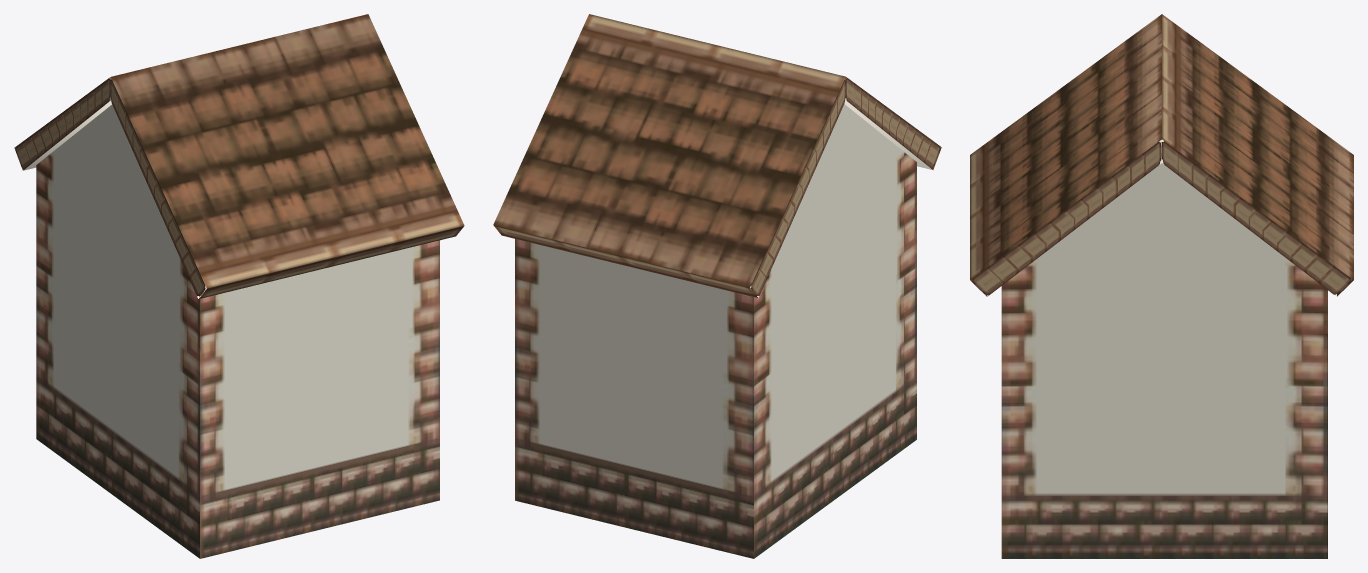
File: house_base_03.fbx
3 views of the same model, side by side, from view 1: azimuth 30°, elevation 25°; view 2: azimuth 150°, elevation 25°; view 3: azimuth 270°, elevation 25° (orthographic).
Parts seen in each view (by area): view 1: house_base_06; view 2: house_base_06; view 3: house_base_06.
Boxes of the visible parts, x1=… form: house_base_06: x1=14, y1=14, x2=464, y2=558; house_base_06: x1=493, y1=14, x2=941, y2=558; house_base_06: x1=970, y1=14, x2=1353, y2=558.
Bounding box in the file's own units: 181 × 285 × 234.
